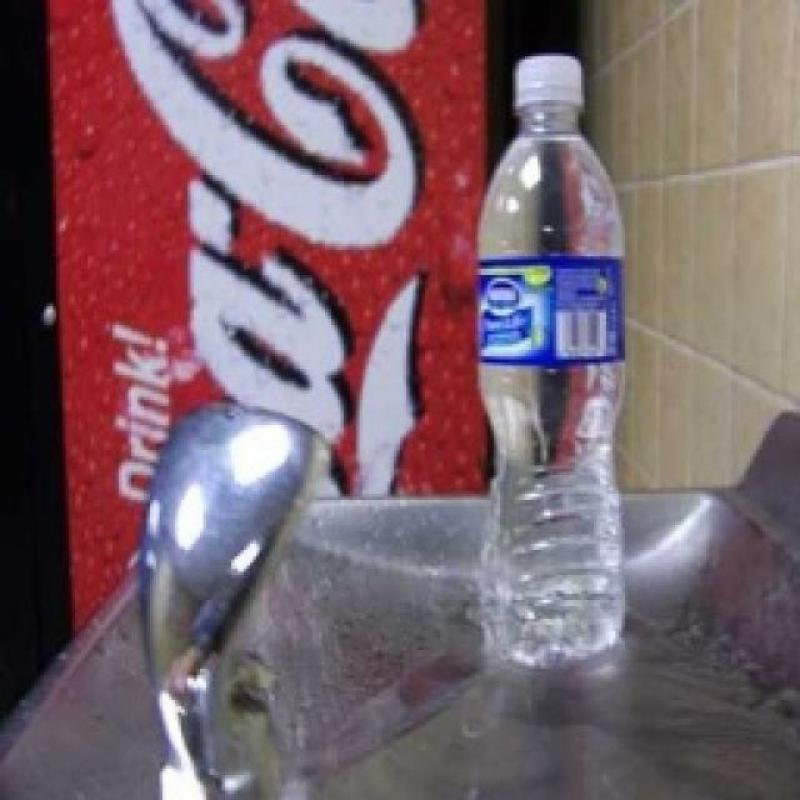botella: (475, 53, 625, 666)
